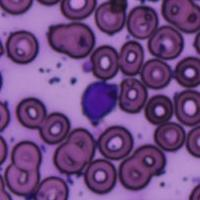L: (81, 80, 117, 121)
